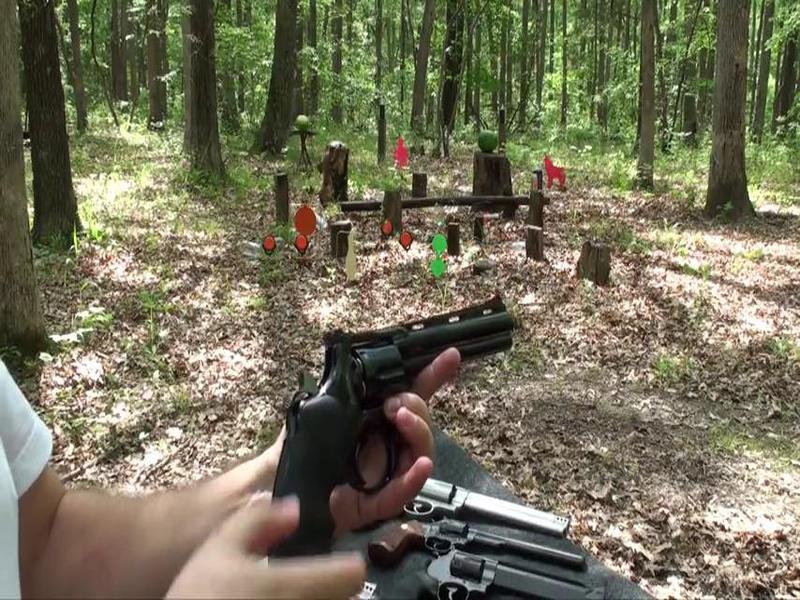Revolver: (245, 271, 514, 575)
